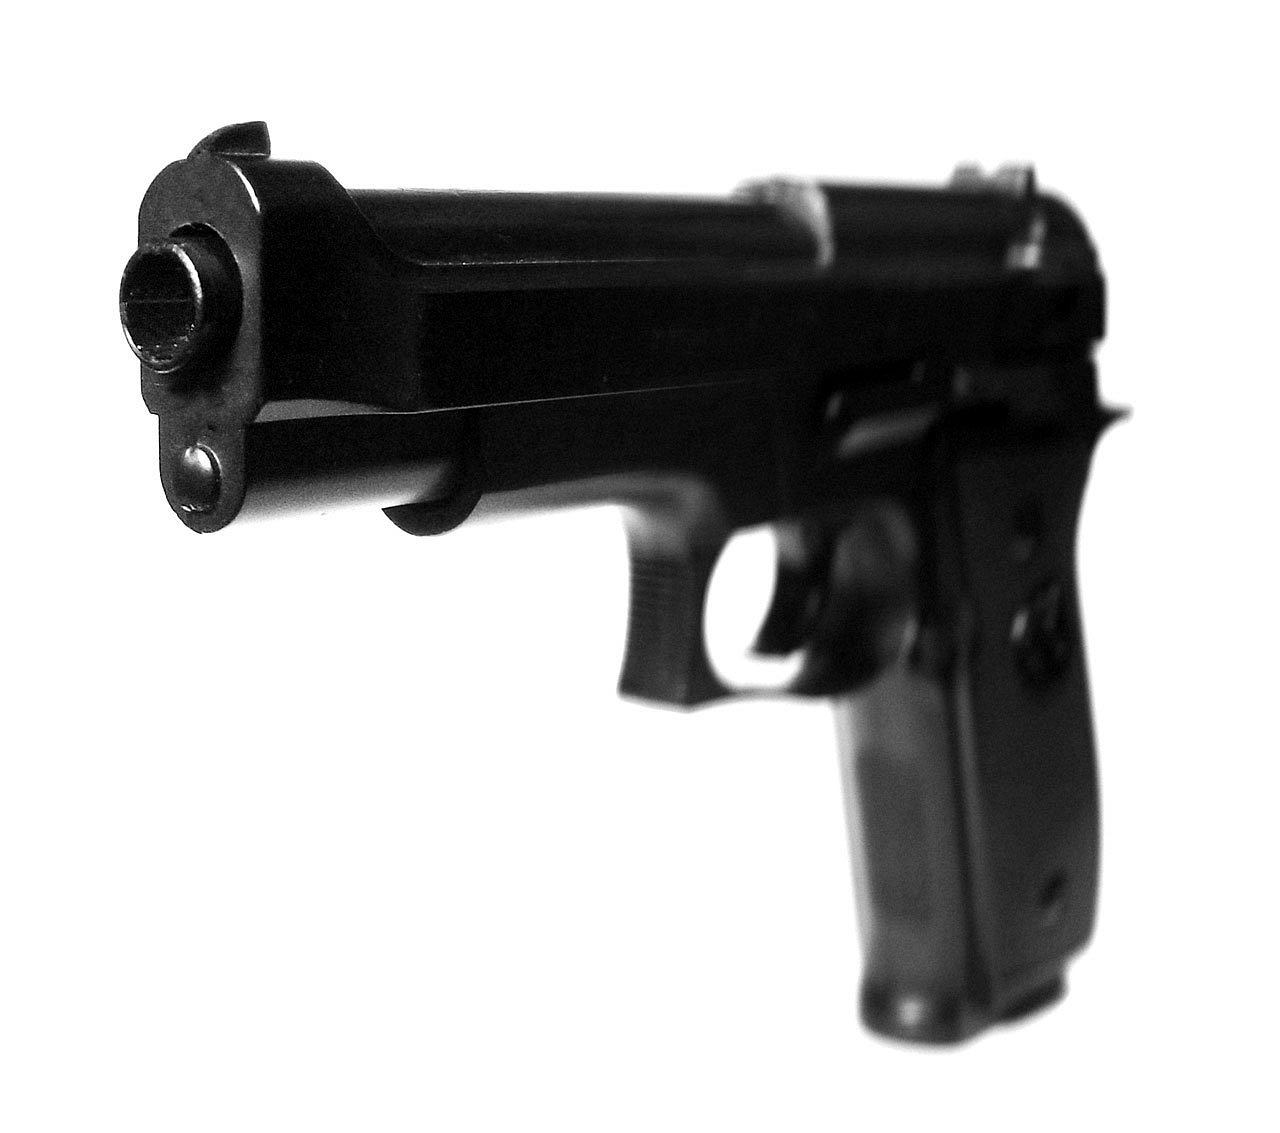gun: (110, 115, 1138, 1052)
